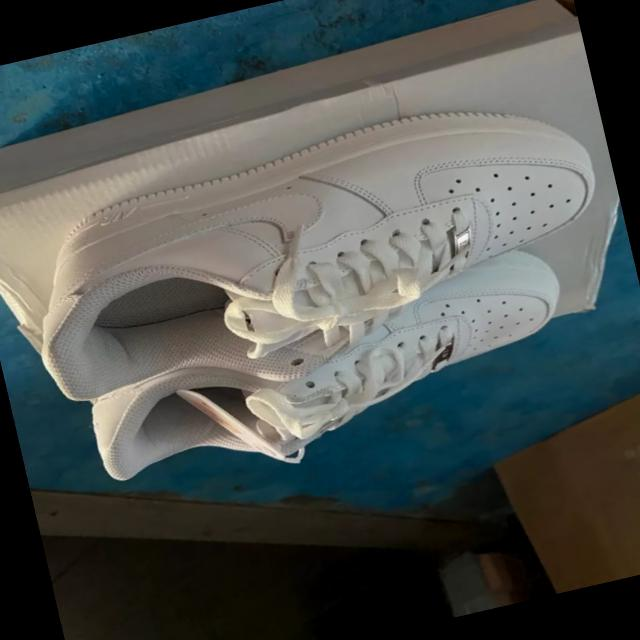nike_original_airforce: (6, 74, 626, 433), (51, 207, 640, 503)
